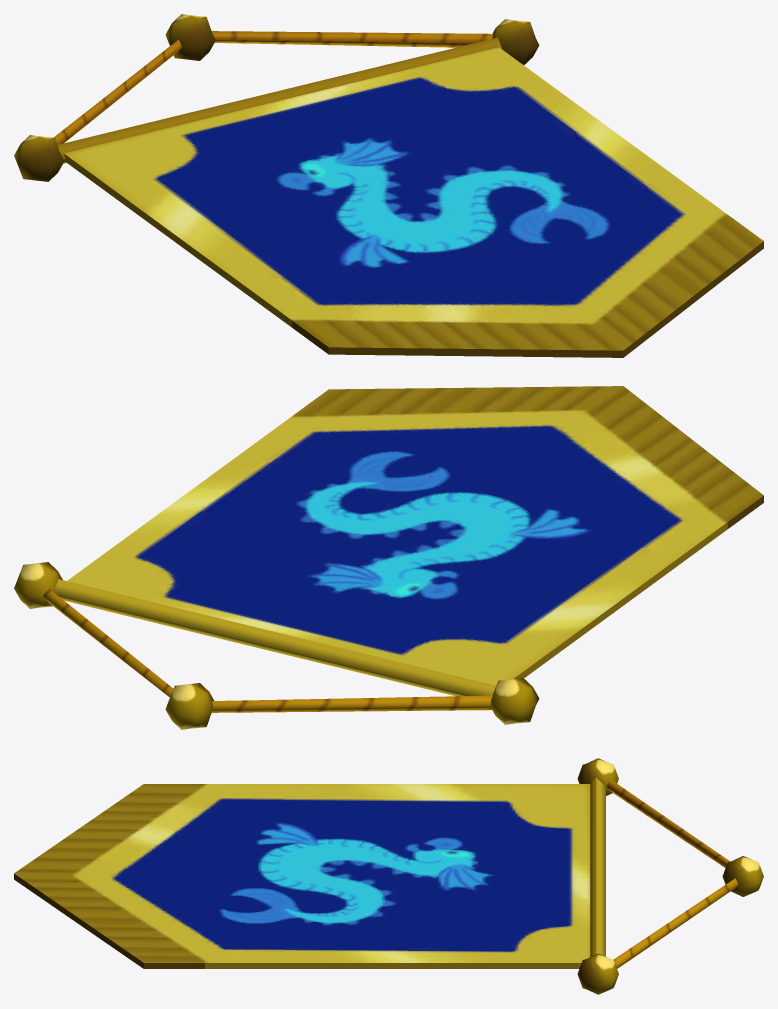
File: Banner.fbx
The picture shows the model from 3 angles, top to bottom: view 1: azimuth 30°, elevation 25°; view 2: azimuth 150°, elevation 25°; view 3: azimuth 270°, elevation 25°; orthographic projection. The views are drawn at different scales.
Visible parts, largest first — view 1: Banner; view 2: Banner; view 3: Banner.
Boxes of the visible parts, x1,y1,x2,y2 form: Banner: (14,14,763,357); Banner: (14,386,763,729); Banner: (14,758,763,994).
Size of the model in its own units: 127 by 10.47 by 189.
